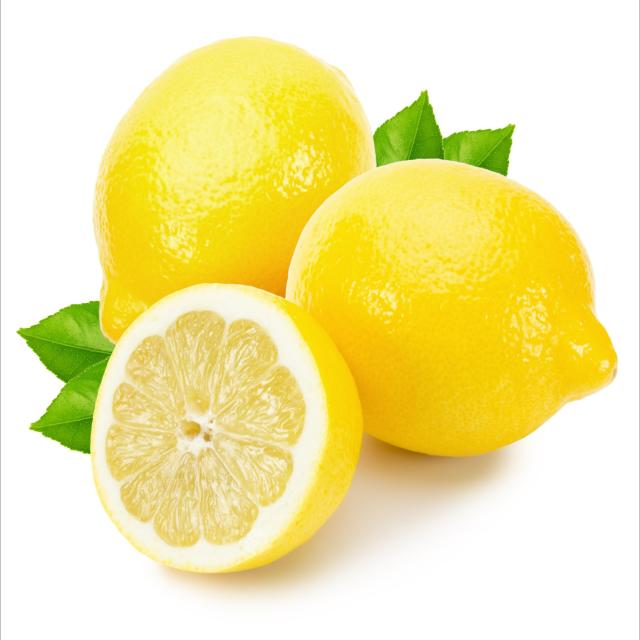lemon: (282, 153, 624, 463), (84, 278, 375, 580)
